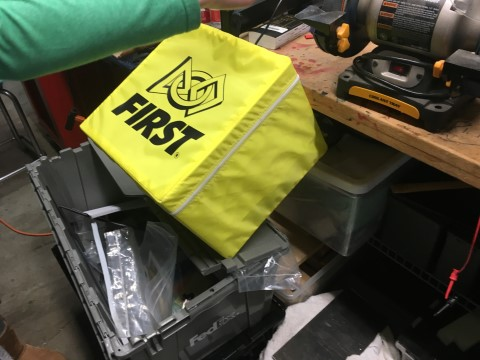cube: (77, 18, 329, 262)
